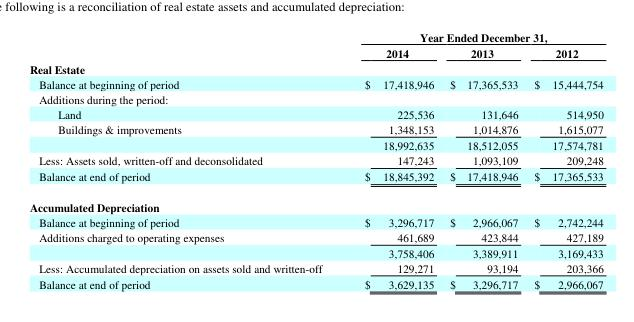table: (28, 28, 602, 290)
table column: (28, 28, 342, 290), (342, 28, 441, 290), (441, 28, 525, 290), (525, 28, 602, 290)
table column header: (28, 28, 602, 60)
table projected row header: (28, 191, 602, 214), (28, 60, 602, 76), (28, 90, 602, 105)
table row: (28, 167, 602, 191), (28, 191, 602, 214), (28, 28, 602, 44), (28, 44, 602, 60), (28, 60, 602, 76), (28, 105, 602, 121), (28, 136, 602, 152), (28, 244, 602, 260), (28, 90, 602, 105), (28, 121, 602, 136), (28, 152, 602, 167), (28, 214, 602, 229), (28, 229, 602, 244), (28, 260, 602, 275), (28, 275, 602, 290), (28, 76, 602, 90)
table spanning cell: (342, 28, 602, 44)
